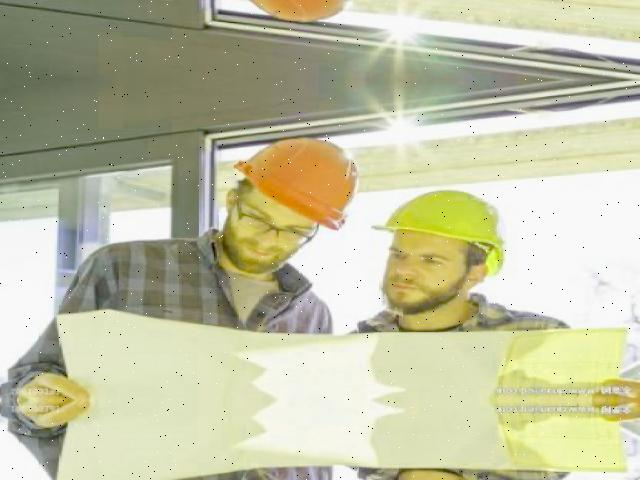Helmet: (226, 132, 370, 234), (370, 184, 516, 282)
